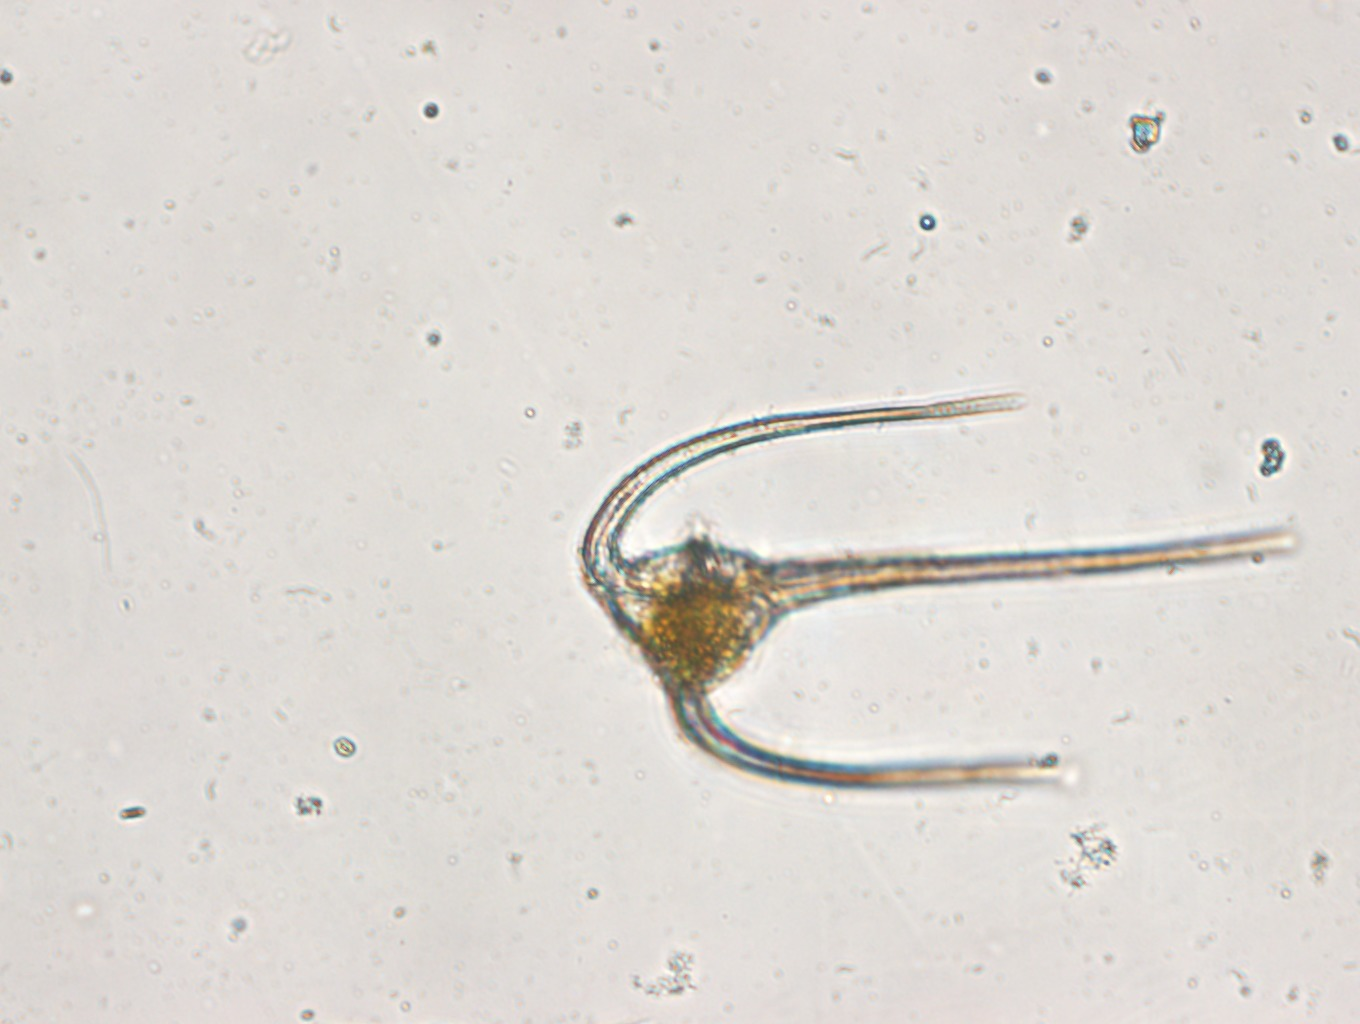ceratium trichoceros: (573, 385, 1315, 798)
